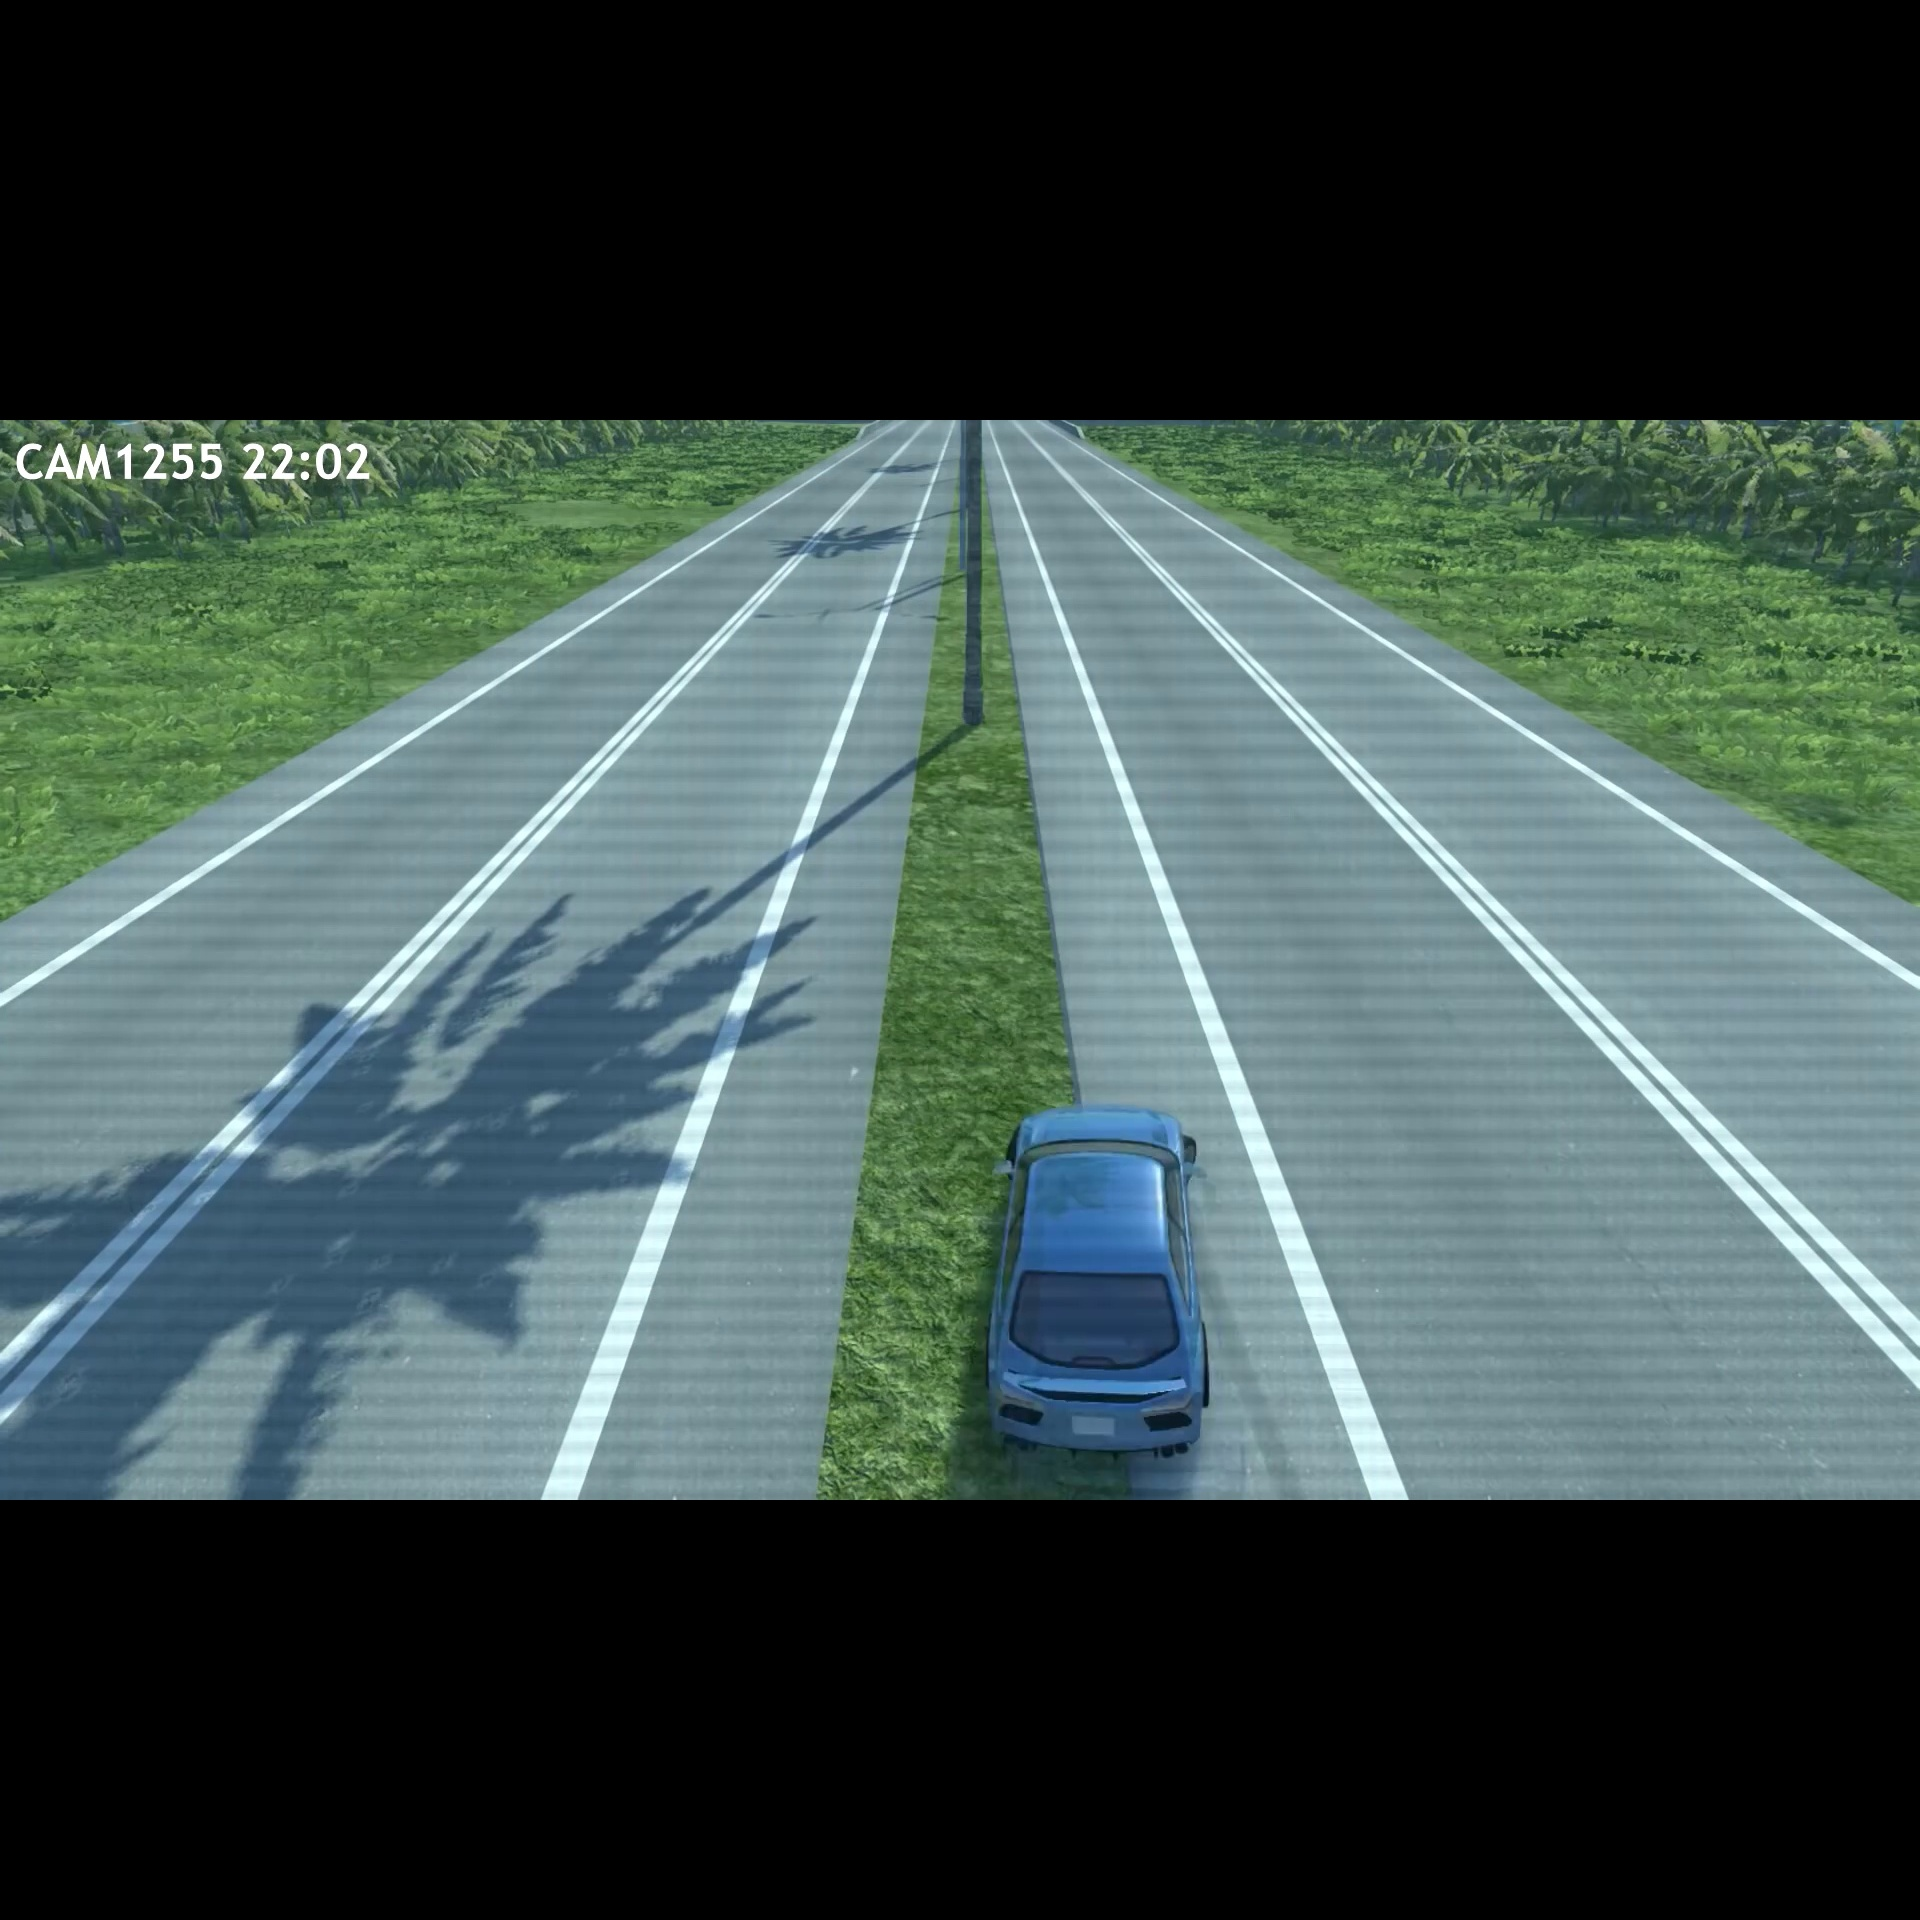vehicle: (969, 1097, 1231, 1463)
